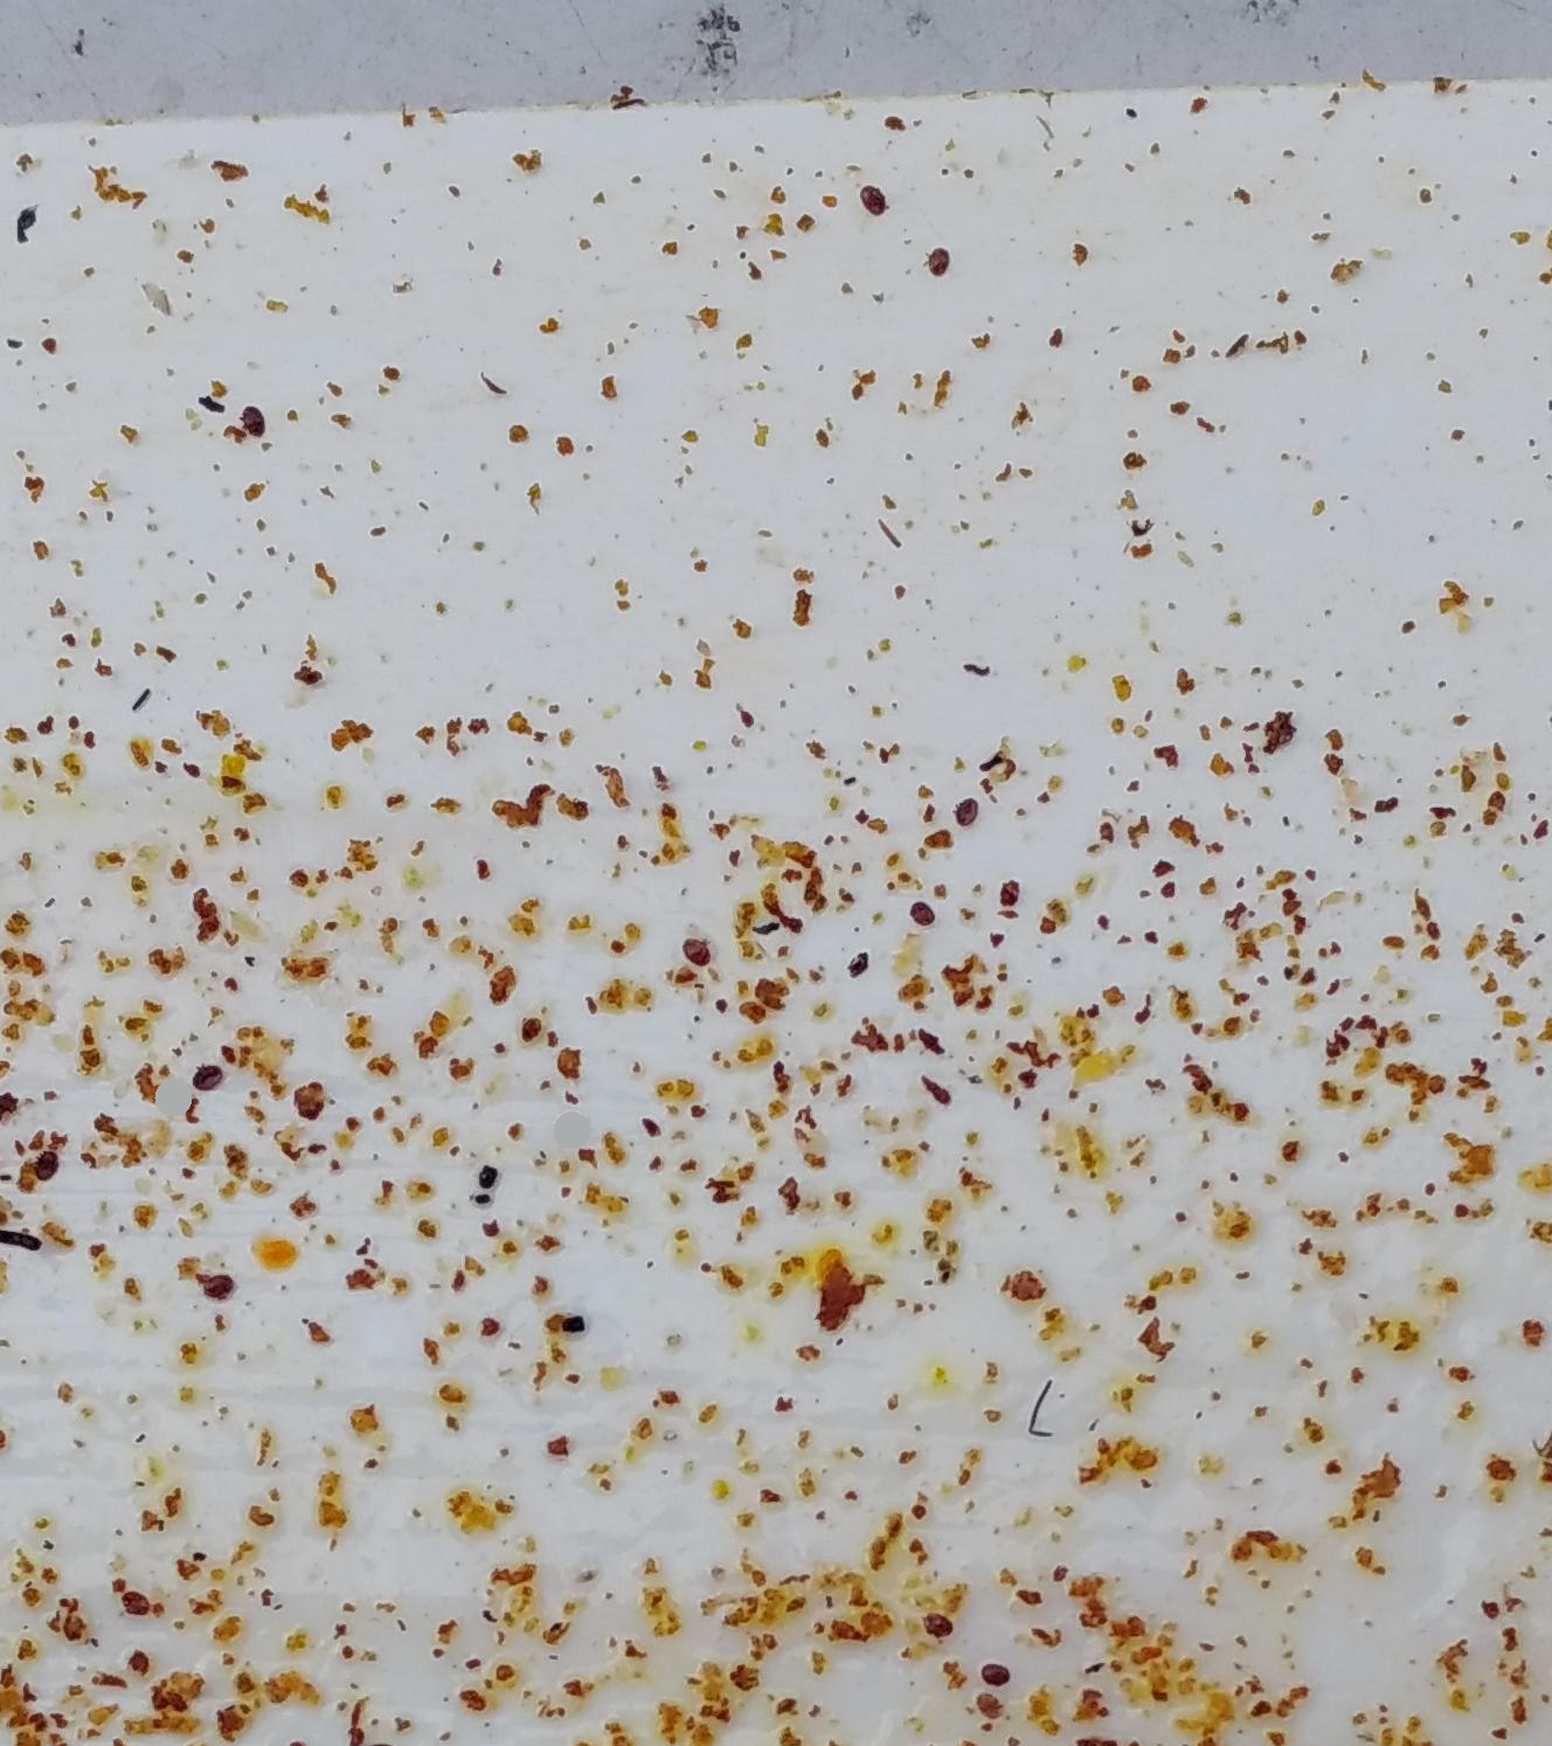Varroa: (202, 1268, 234, 1301), (977, 1688, 1008, 1721), (193, 1068, 225, 1098), (33, 1149, 63, 1180), (917, 1610, 947, 1641), (120, 1587, 148, 1616), (927, 249, 954, 279), (240, 407, 267, 437), (951, 797, 980, 824), (854, 184, 881, 211), (981, 1667, 1008, 1694), (688, 940, 715, 967), (911, 898, 936, 925)
